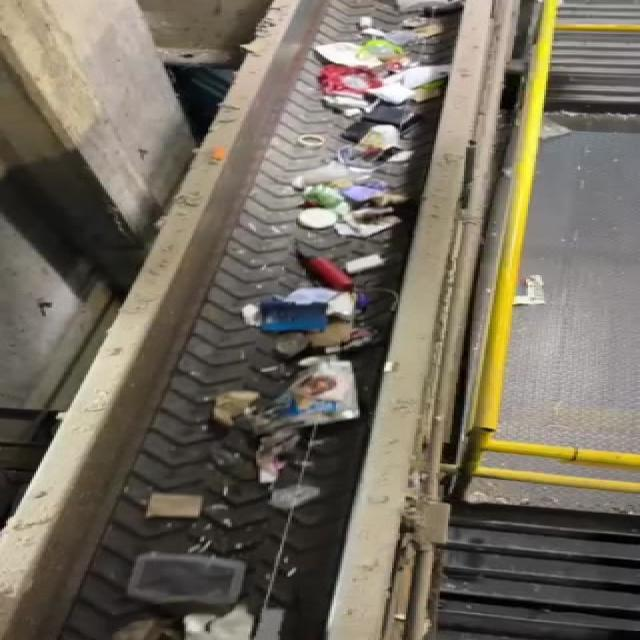pp: (116, 547, 254, 610)
